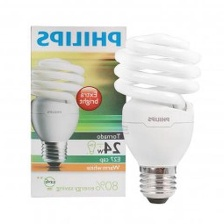book: (26, 21, 132, 201)
light_bulb: (109, 27, 206, 205)
